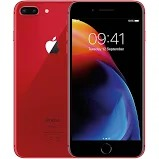iphone: (65, 1, 145, 159)
iphone8: (66, 1, 146, 159)
